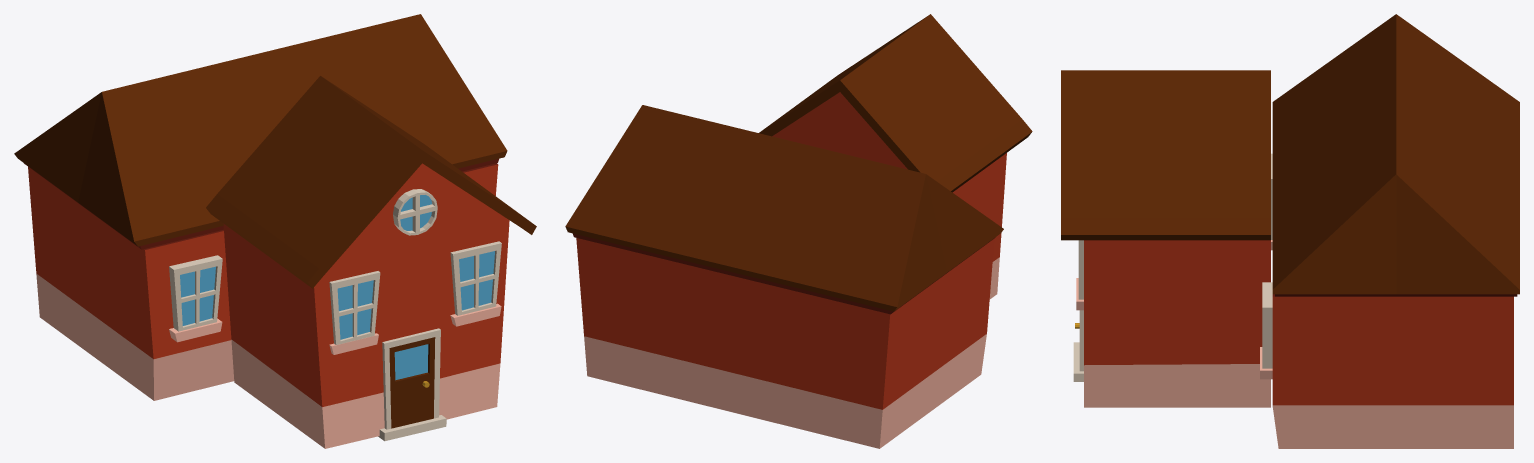
File: CozyHouse1.fbx
3 views of the same model, side by side, from view 1: azimuth 30°, elevation 25°; view 2: azimuth 150°, elevation 25°; view 3: azimuth 270°, elevation 25° (orthographic). The views are drawn at different scales.
Parts seen in each view (by area): view 1: House_06, House_06.001; view 2: House_06.001, House_06; view 3: House_06.001, House_06.
Boxes of the visible parts, box(x1,y1,x2,y2) form: House_06: box(24, 158, 509, 448); House_06.001: box(14, 14, 536, 288); House_06.001: box(565, 14, 1032, 311); House_06: box(572, 92, 1006, 448); House_06.001: box(1061, 14, 1519, 294); House_06: box(1073, 153, 1517, 448).
Bounding box in the file's own units: 377 × 278 × 390.
